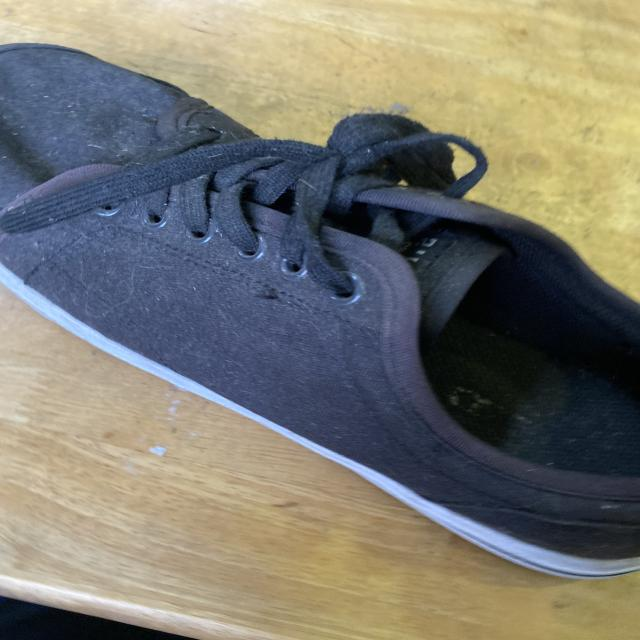broken-error: (247, 274, 293, 314)
